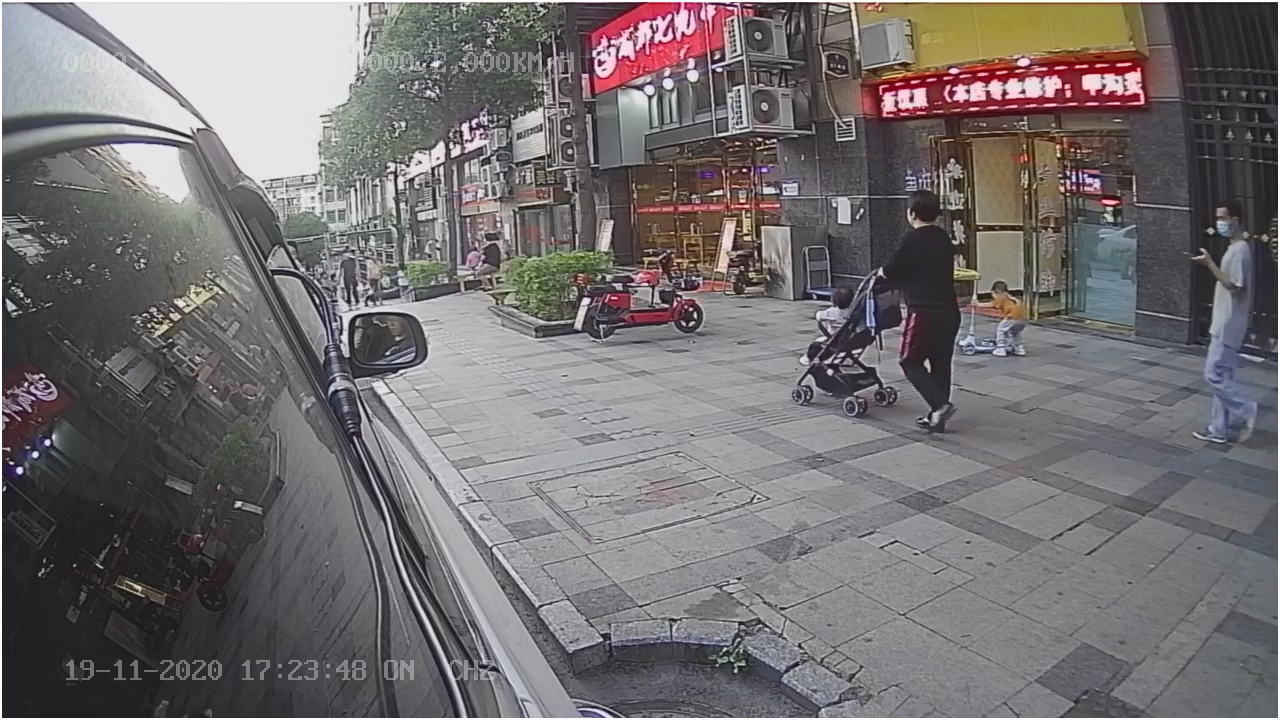person: (879, 186, 960, 436)
